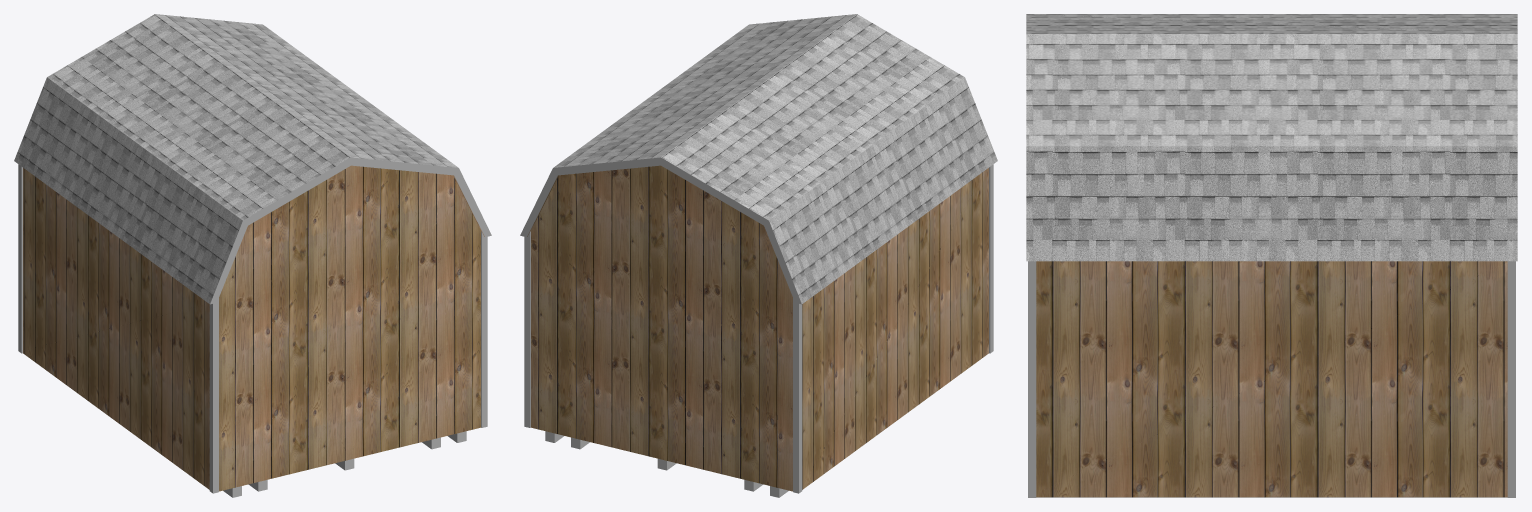
The model's file is Dutch Barn_10x12.obj.
The picture shows the model from 3 angles, left to right: view 1: azimuth 30°, elevation 25°; view 2: azimuth 150°, elevation 25°; view 3: azimuth 270°, elevation 25°; orthographic projection. The views are drawn at different scales.
Parts seen in each view (by area): view 1: Shed, Roof, Trim, Sides, Floor; view 2: Shed, Roof, Trim, Sides, Floor; view 3: Roof, Shed, Trim.
Boxes of the visible parts, box(x1,y1,x2,y2) form: Shed: box(23, 165, 484, 491); Roof: box(14, 14, 458, 303); Trim: box(18, 164, 487, 493); Sides: box(210, 157, 491, 304); Floor: box(223, 431, 466, 497); Shed: box(527, 165, 988, 491); Roof: box(553, 14, 997, 303); Trim: box(524, 164, 993, 493); Sides: box(520, 157, 801, 304); Floor: box(545, 431, 788, 497); Roof: box(1026, 14, 1517, 261); Shed: box(1036, 261, 1507, 497); Trim: box(1028, 261, 1515, 497).
Bounding box in the file's own units: 3.08 × 3.27 × 3.71.
